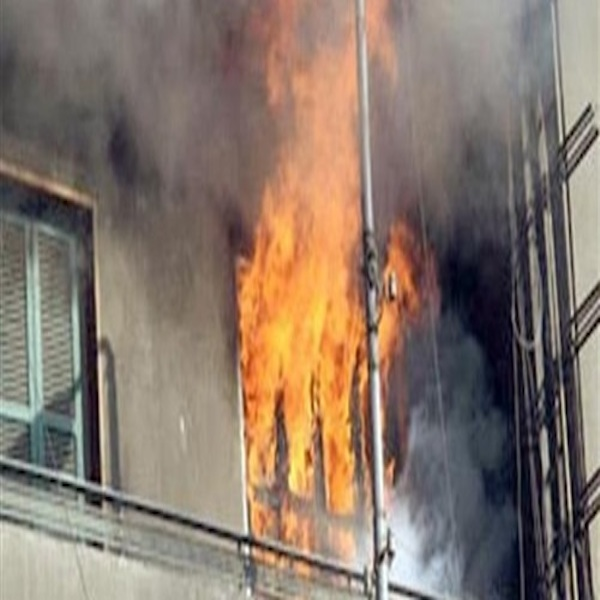fire: (237, 157, 359, 504), (256, 1, 355, 151)
